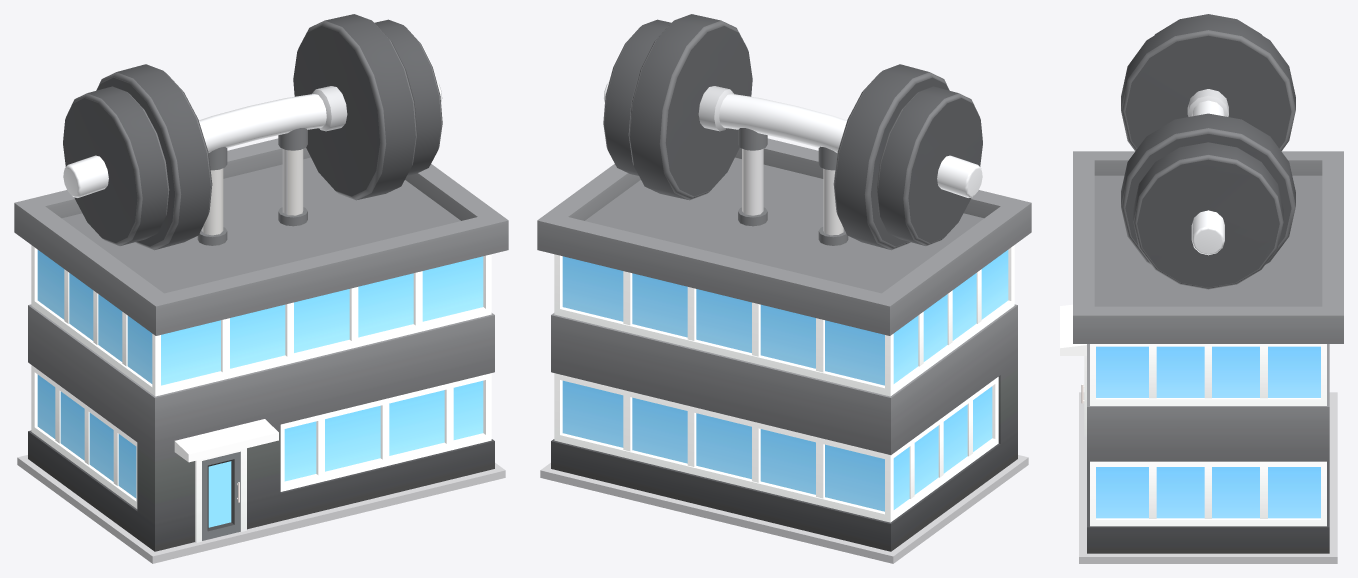
Rendered from city2-building-service-06.glb.
The picture shows the model from 3 angles, left to right: view 1: azimuth 30°, elevation 25°; view 2: azimuth 150°, elevation 25°; view 3: azimuth 270°, elevation 25°; orthographic projection. The views are drawn at different scales.
Parts seen in each view (by area): view 1: Building_Service_06; view 2: Building_Service_06; view 3: Building_Service_06.
Part boxes in pixels (x1,y1,x2,y2): Building_Service_06: (14,14,508,563); Building_Service_06: (537,14,1031,563); Building_Service_06: (1060,14,1343,563).
Size of the model in its own units: 10.29 by 11.34 by 7.18.
Materials: 1 (1 with a texture image).
